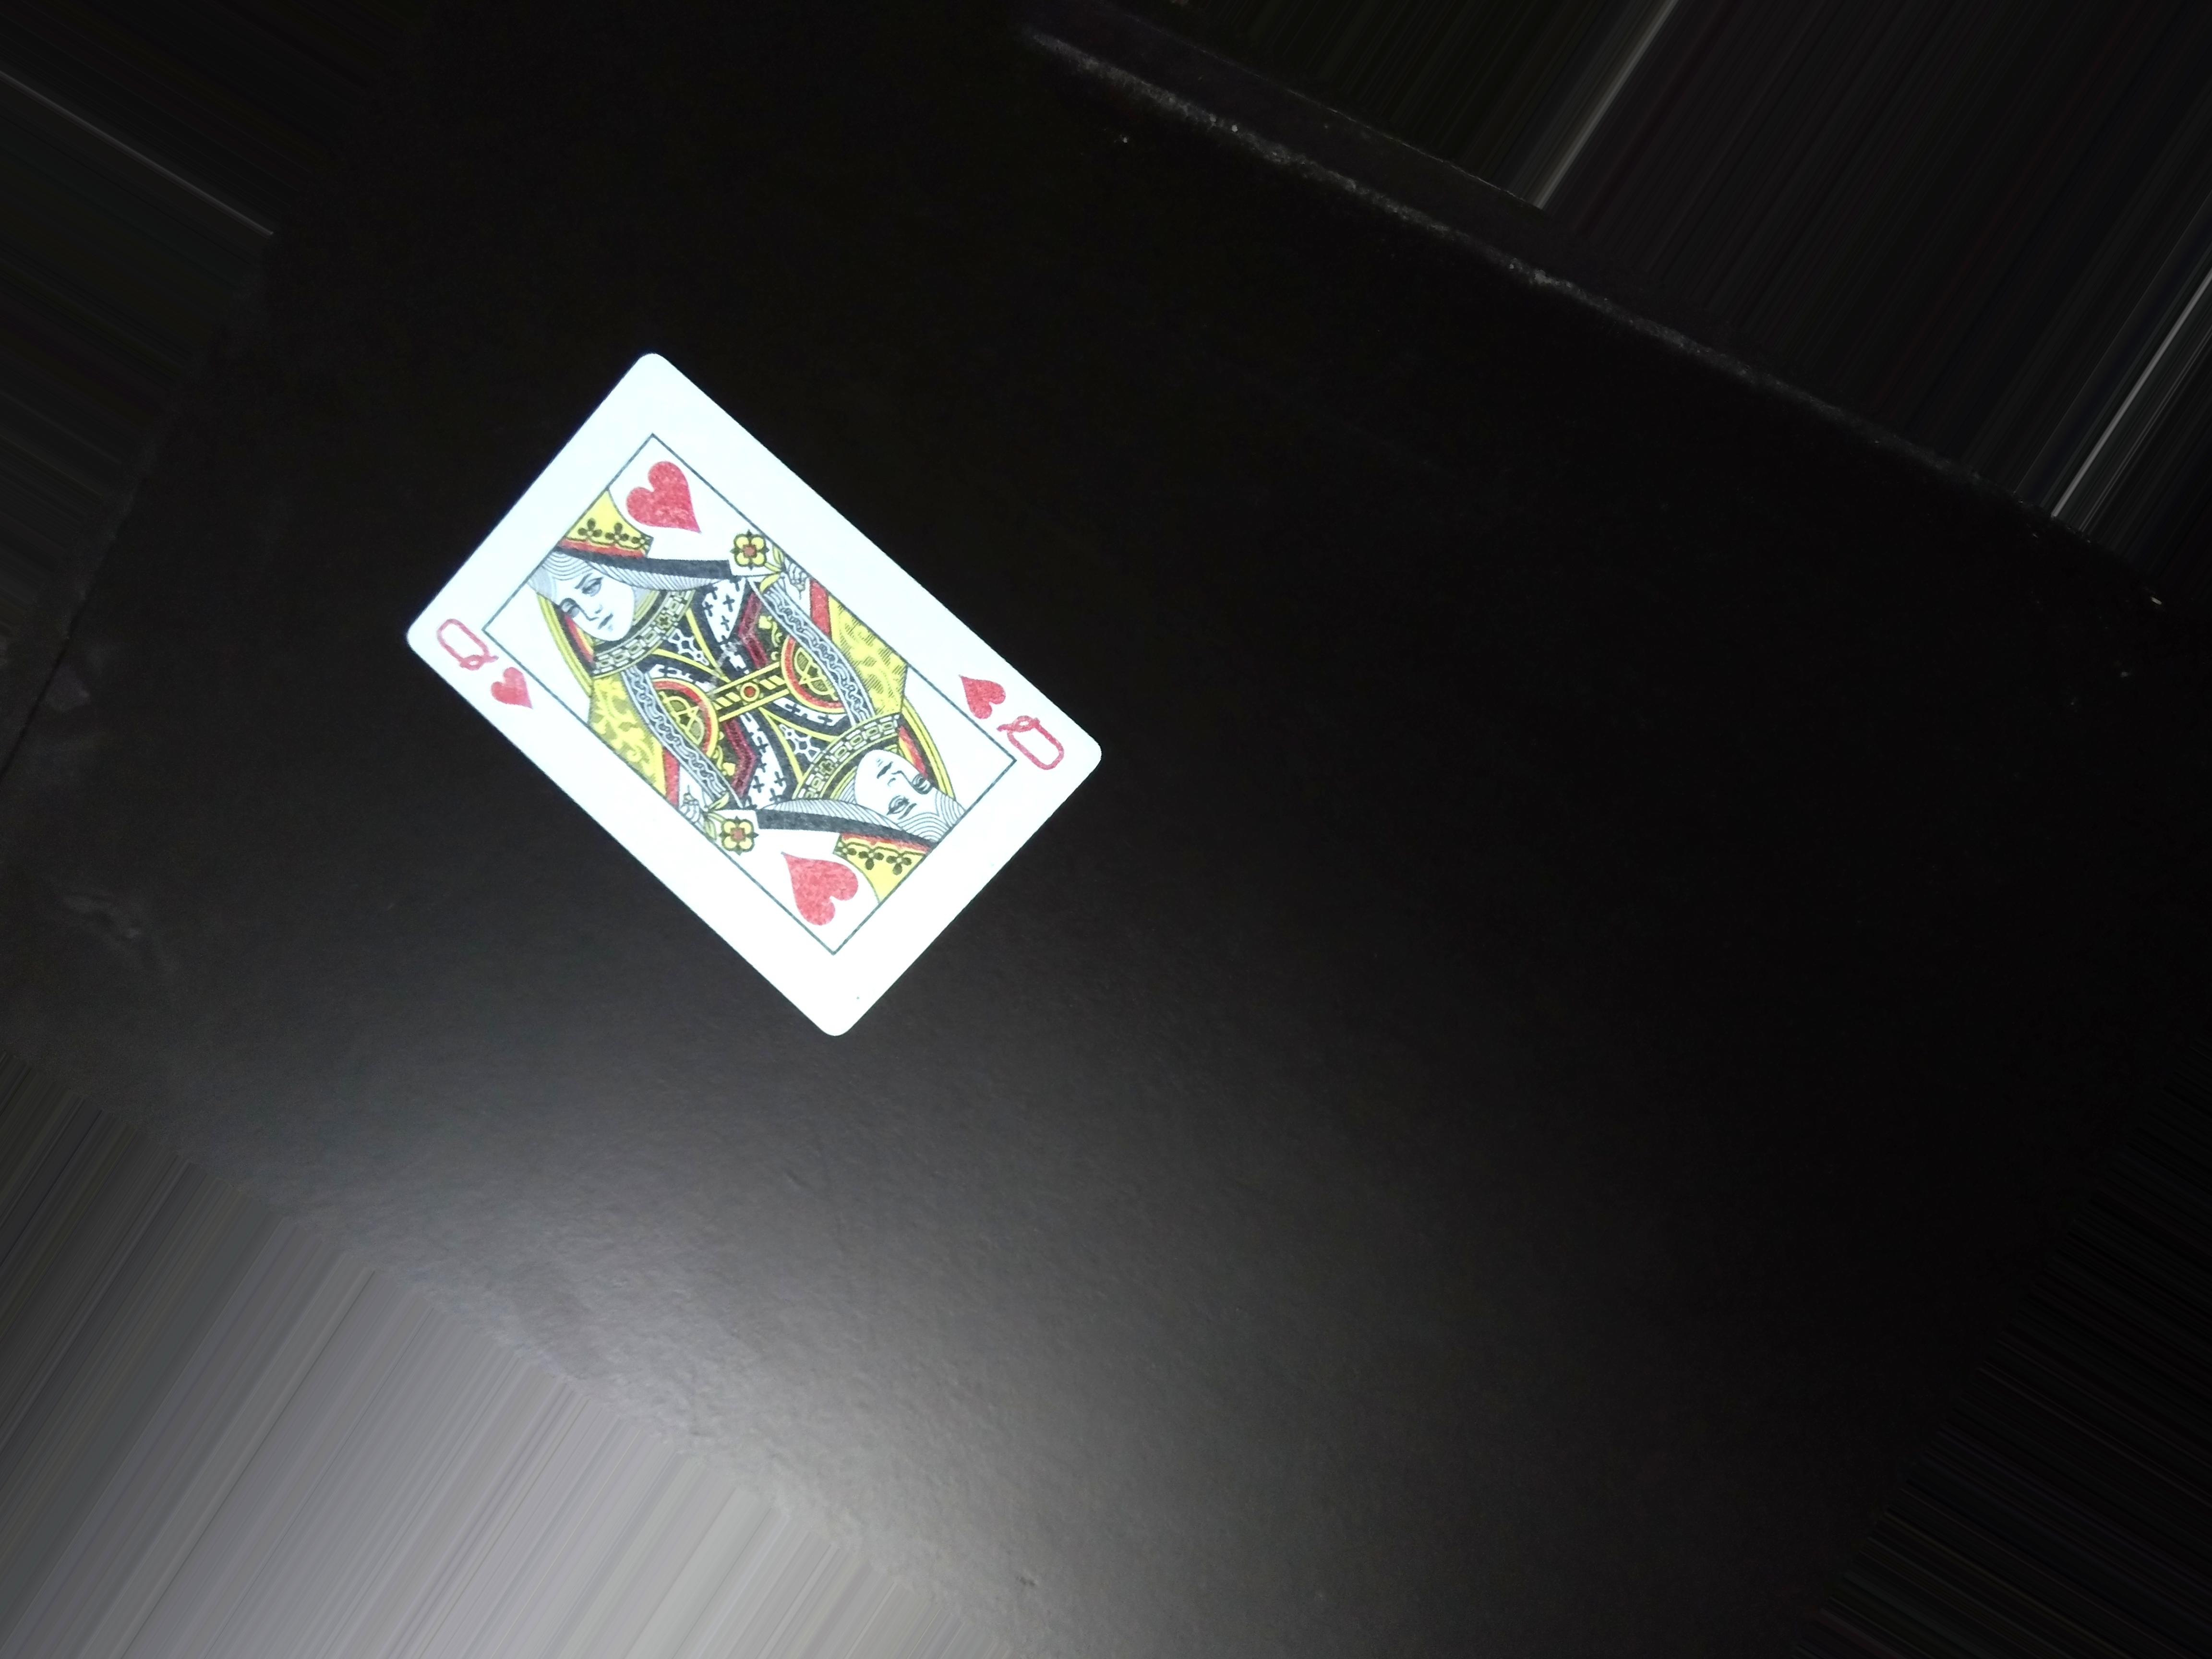QH: (961, 659, 1071, 781)
